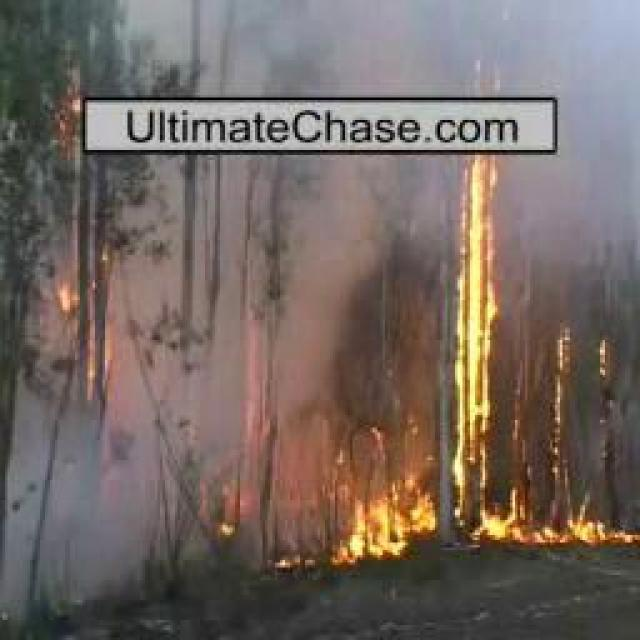Fire: (452, 112, 524, 541), (44, 221, 126, 399), (316, 456, 439, 565), (544, 520, 640, 549), (55, 89, 90, 140)
